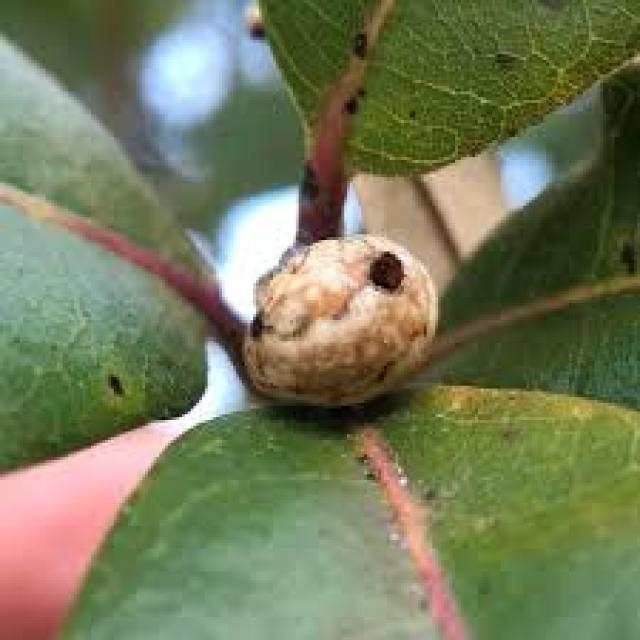scale_insect: (364, 243, 404, 291), (344, 23, 370, 57), (336, 89, 361, 120)
